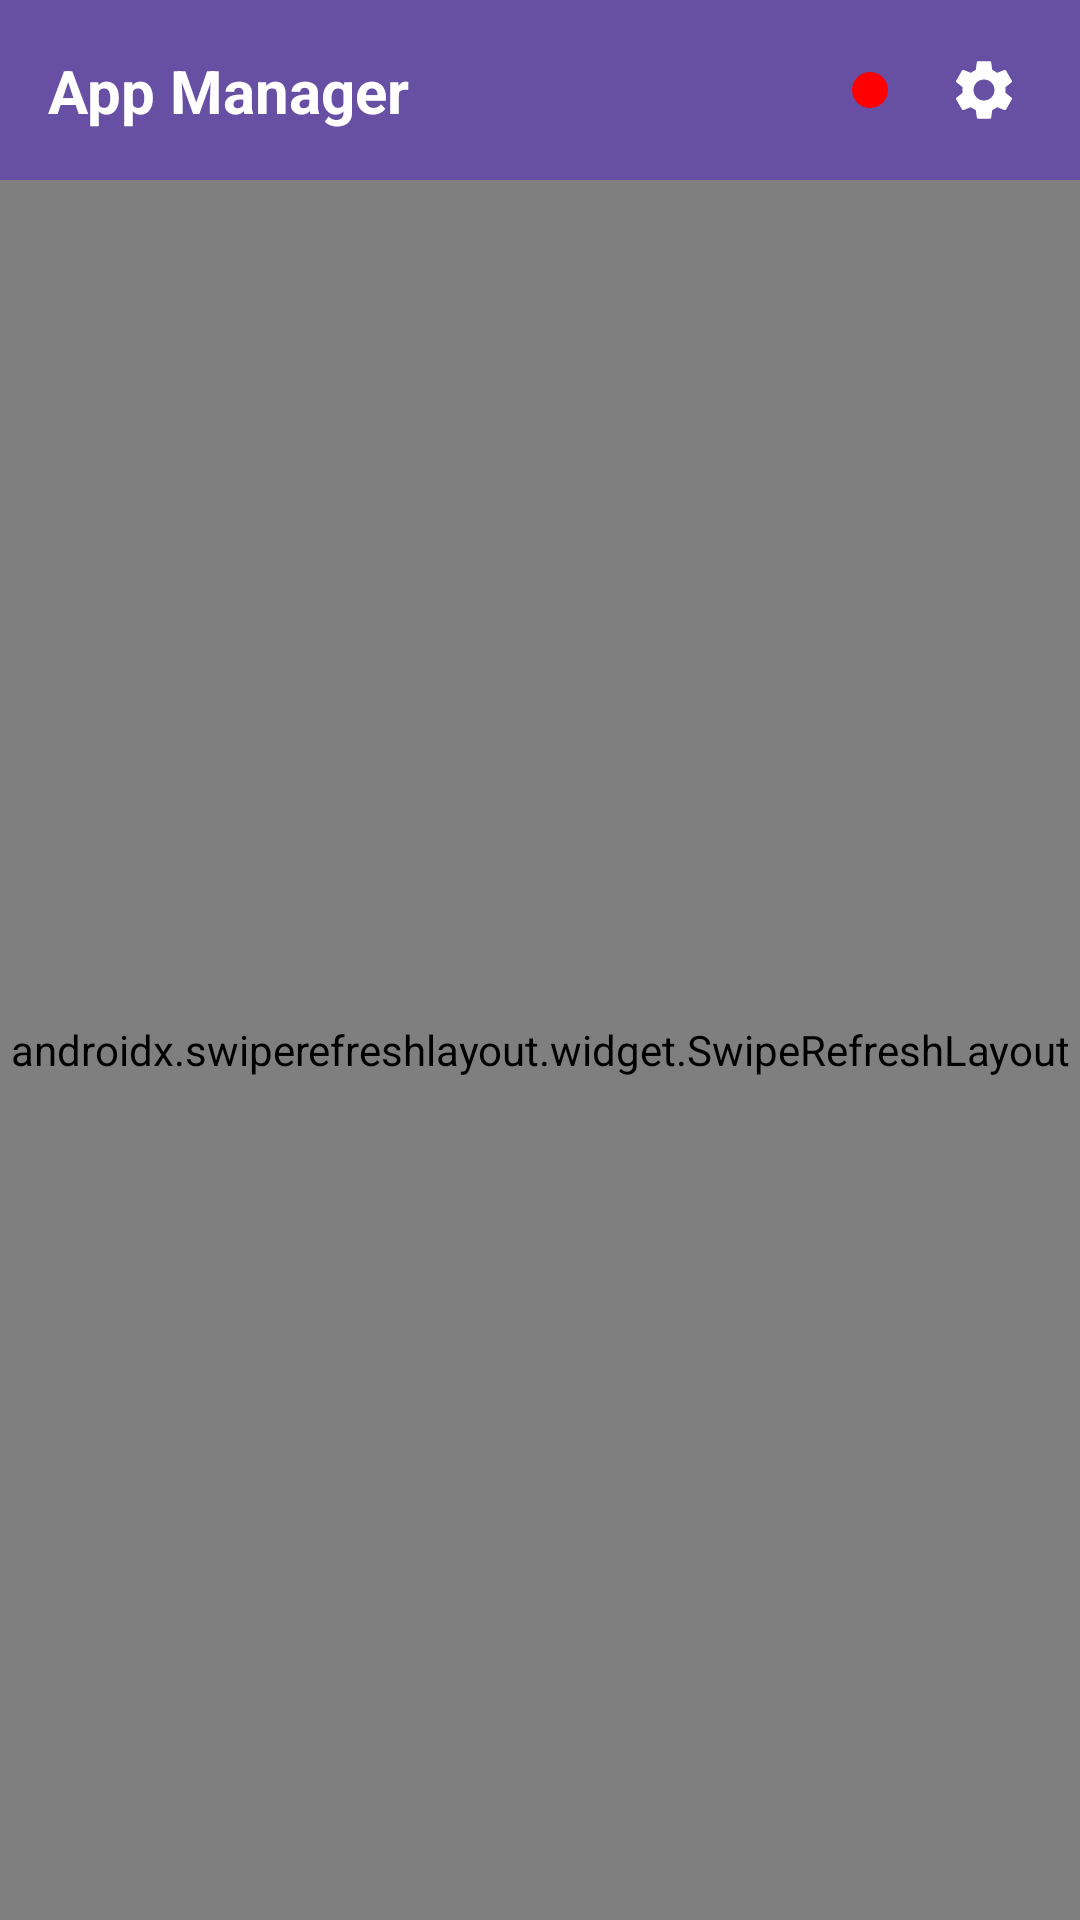

Point at icon controls on the screen. Image size 1080w x 1920h, points as [x,y].
Configuration: [984,90]
